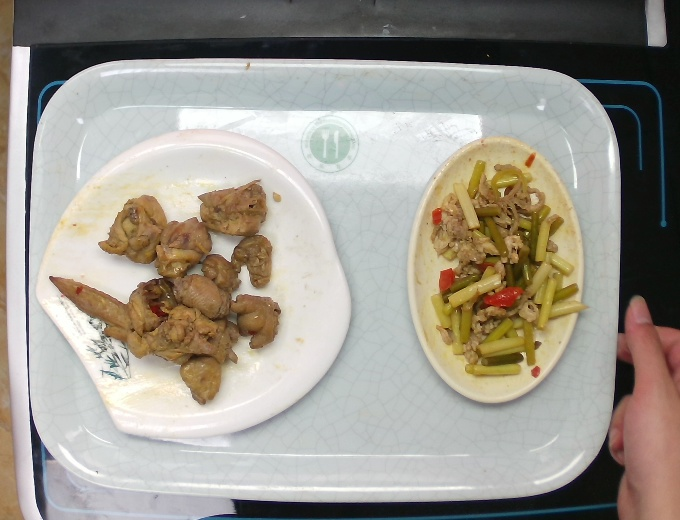JYsf-Mian_Pan: (34, 123, 361, 449)
JYsf-Tuo_Yuan_Wan: (403, 129, 589, 419)
